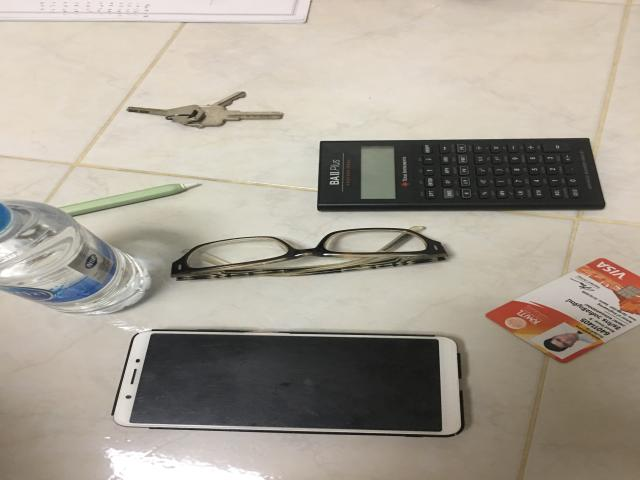Glasses: (172, 227, 448, 280)
Keys: (127, 92, 283, 128)
Mobile phone: (113, 330, 463, 437)
bottle: (0, 200, 150, 313)
